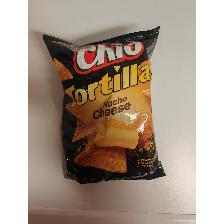Chips: (41, 25, 167, 184)
